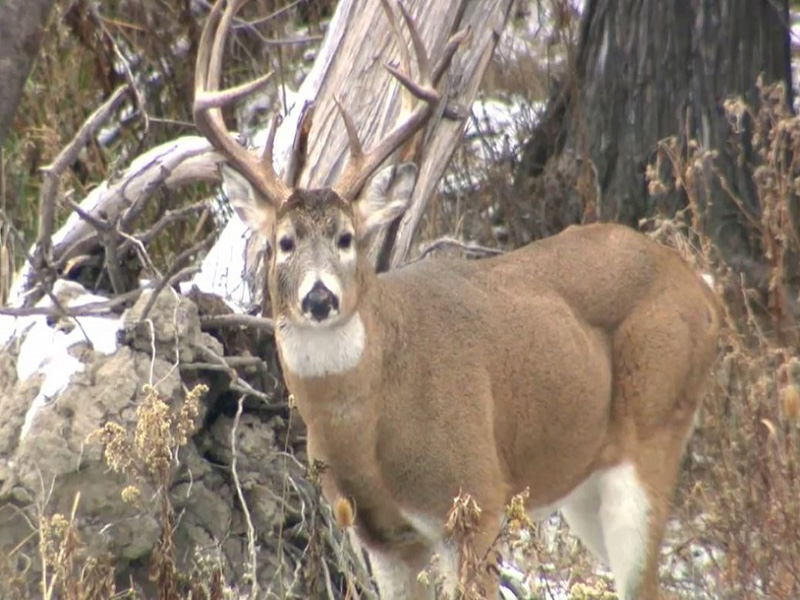cervo: (196, 3, 714, 600)
